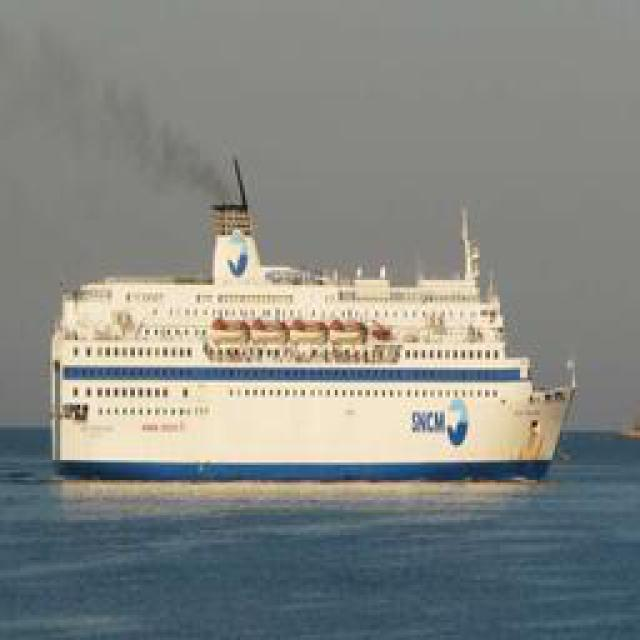Ship: (41, 180, 576, 483)
